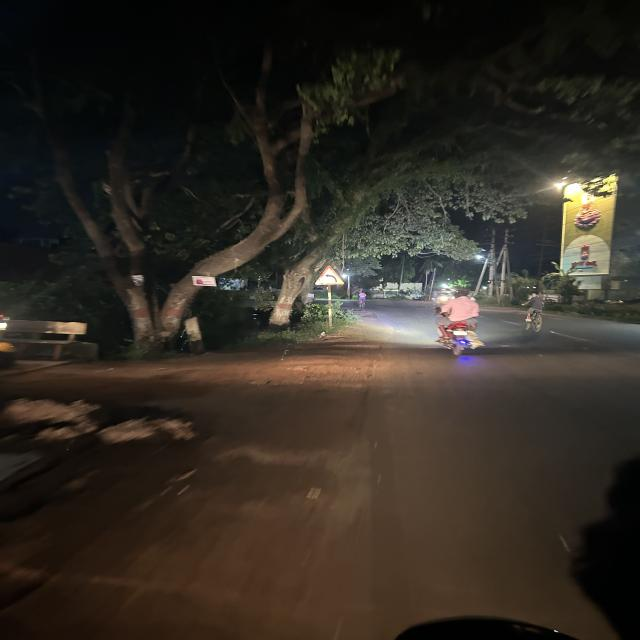left_hand_curve: (314, 263, 346, 290)
